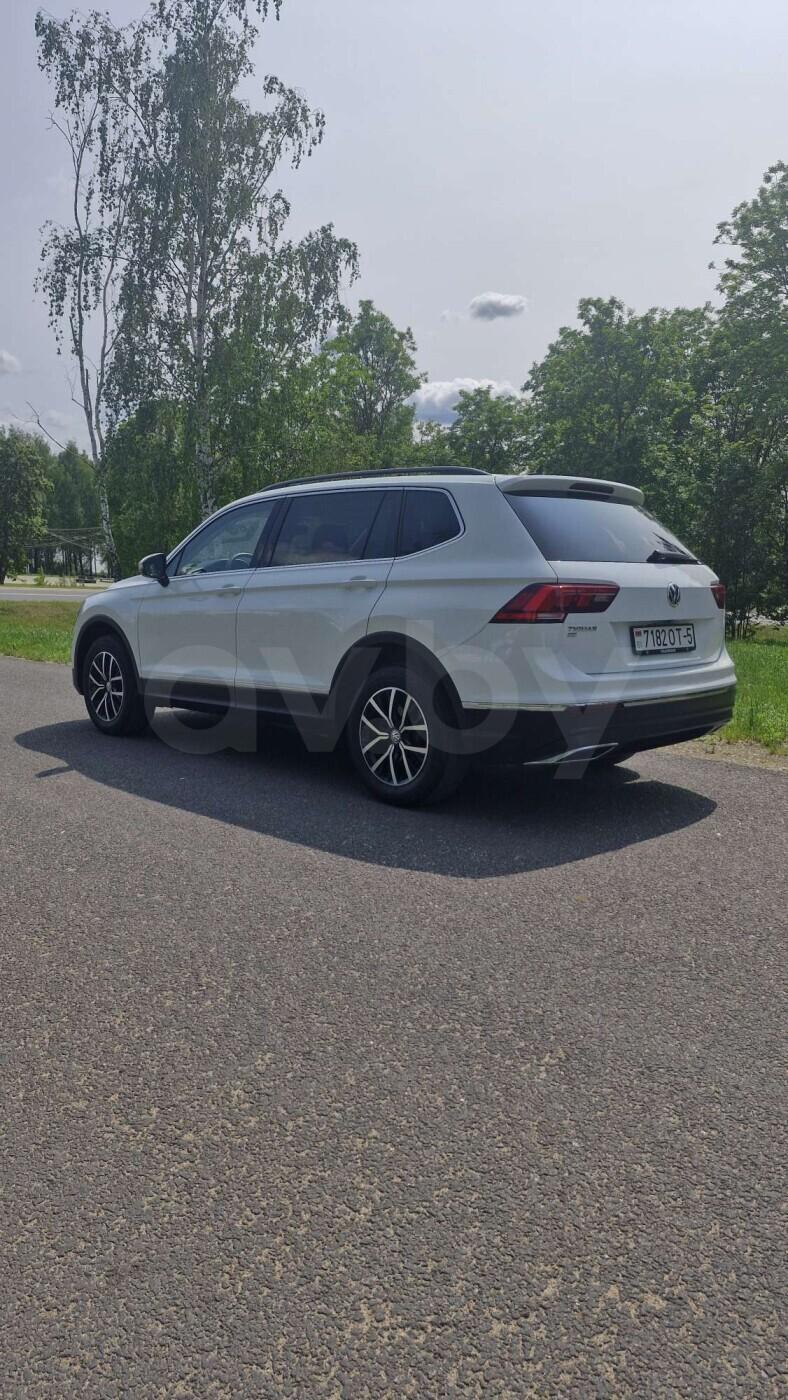Tiguan_2016-2021: (70, 468, 740, 818)
